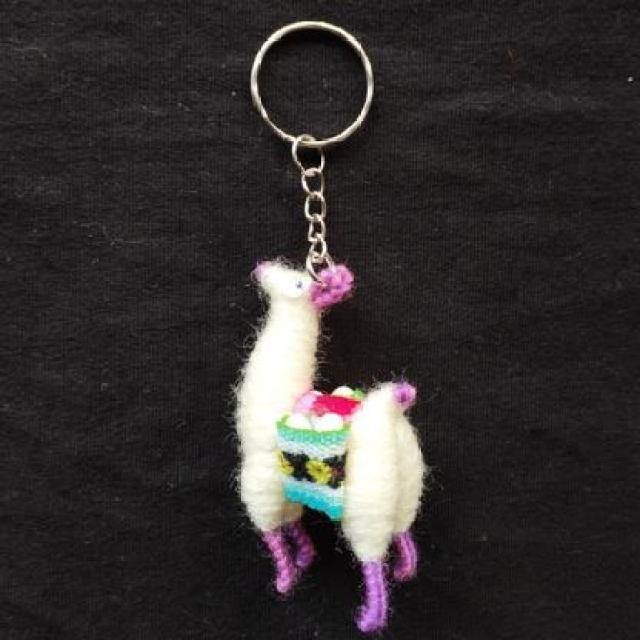Llavero: (232, 255, 428, 634)
